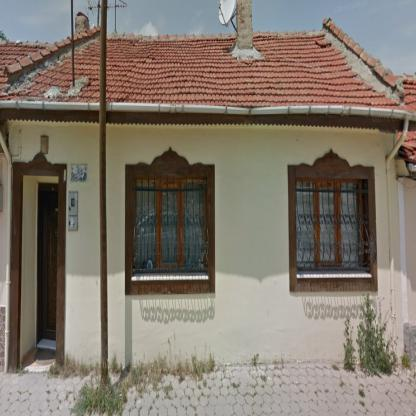door: (42, 190, 57, 339)
window: (134, 178, 208, 274), (295, 177, 366, 273)
